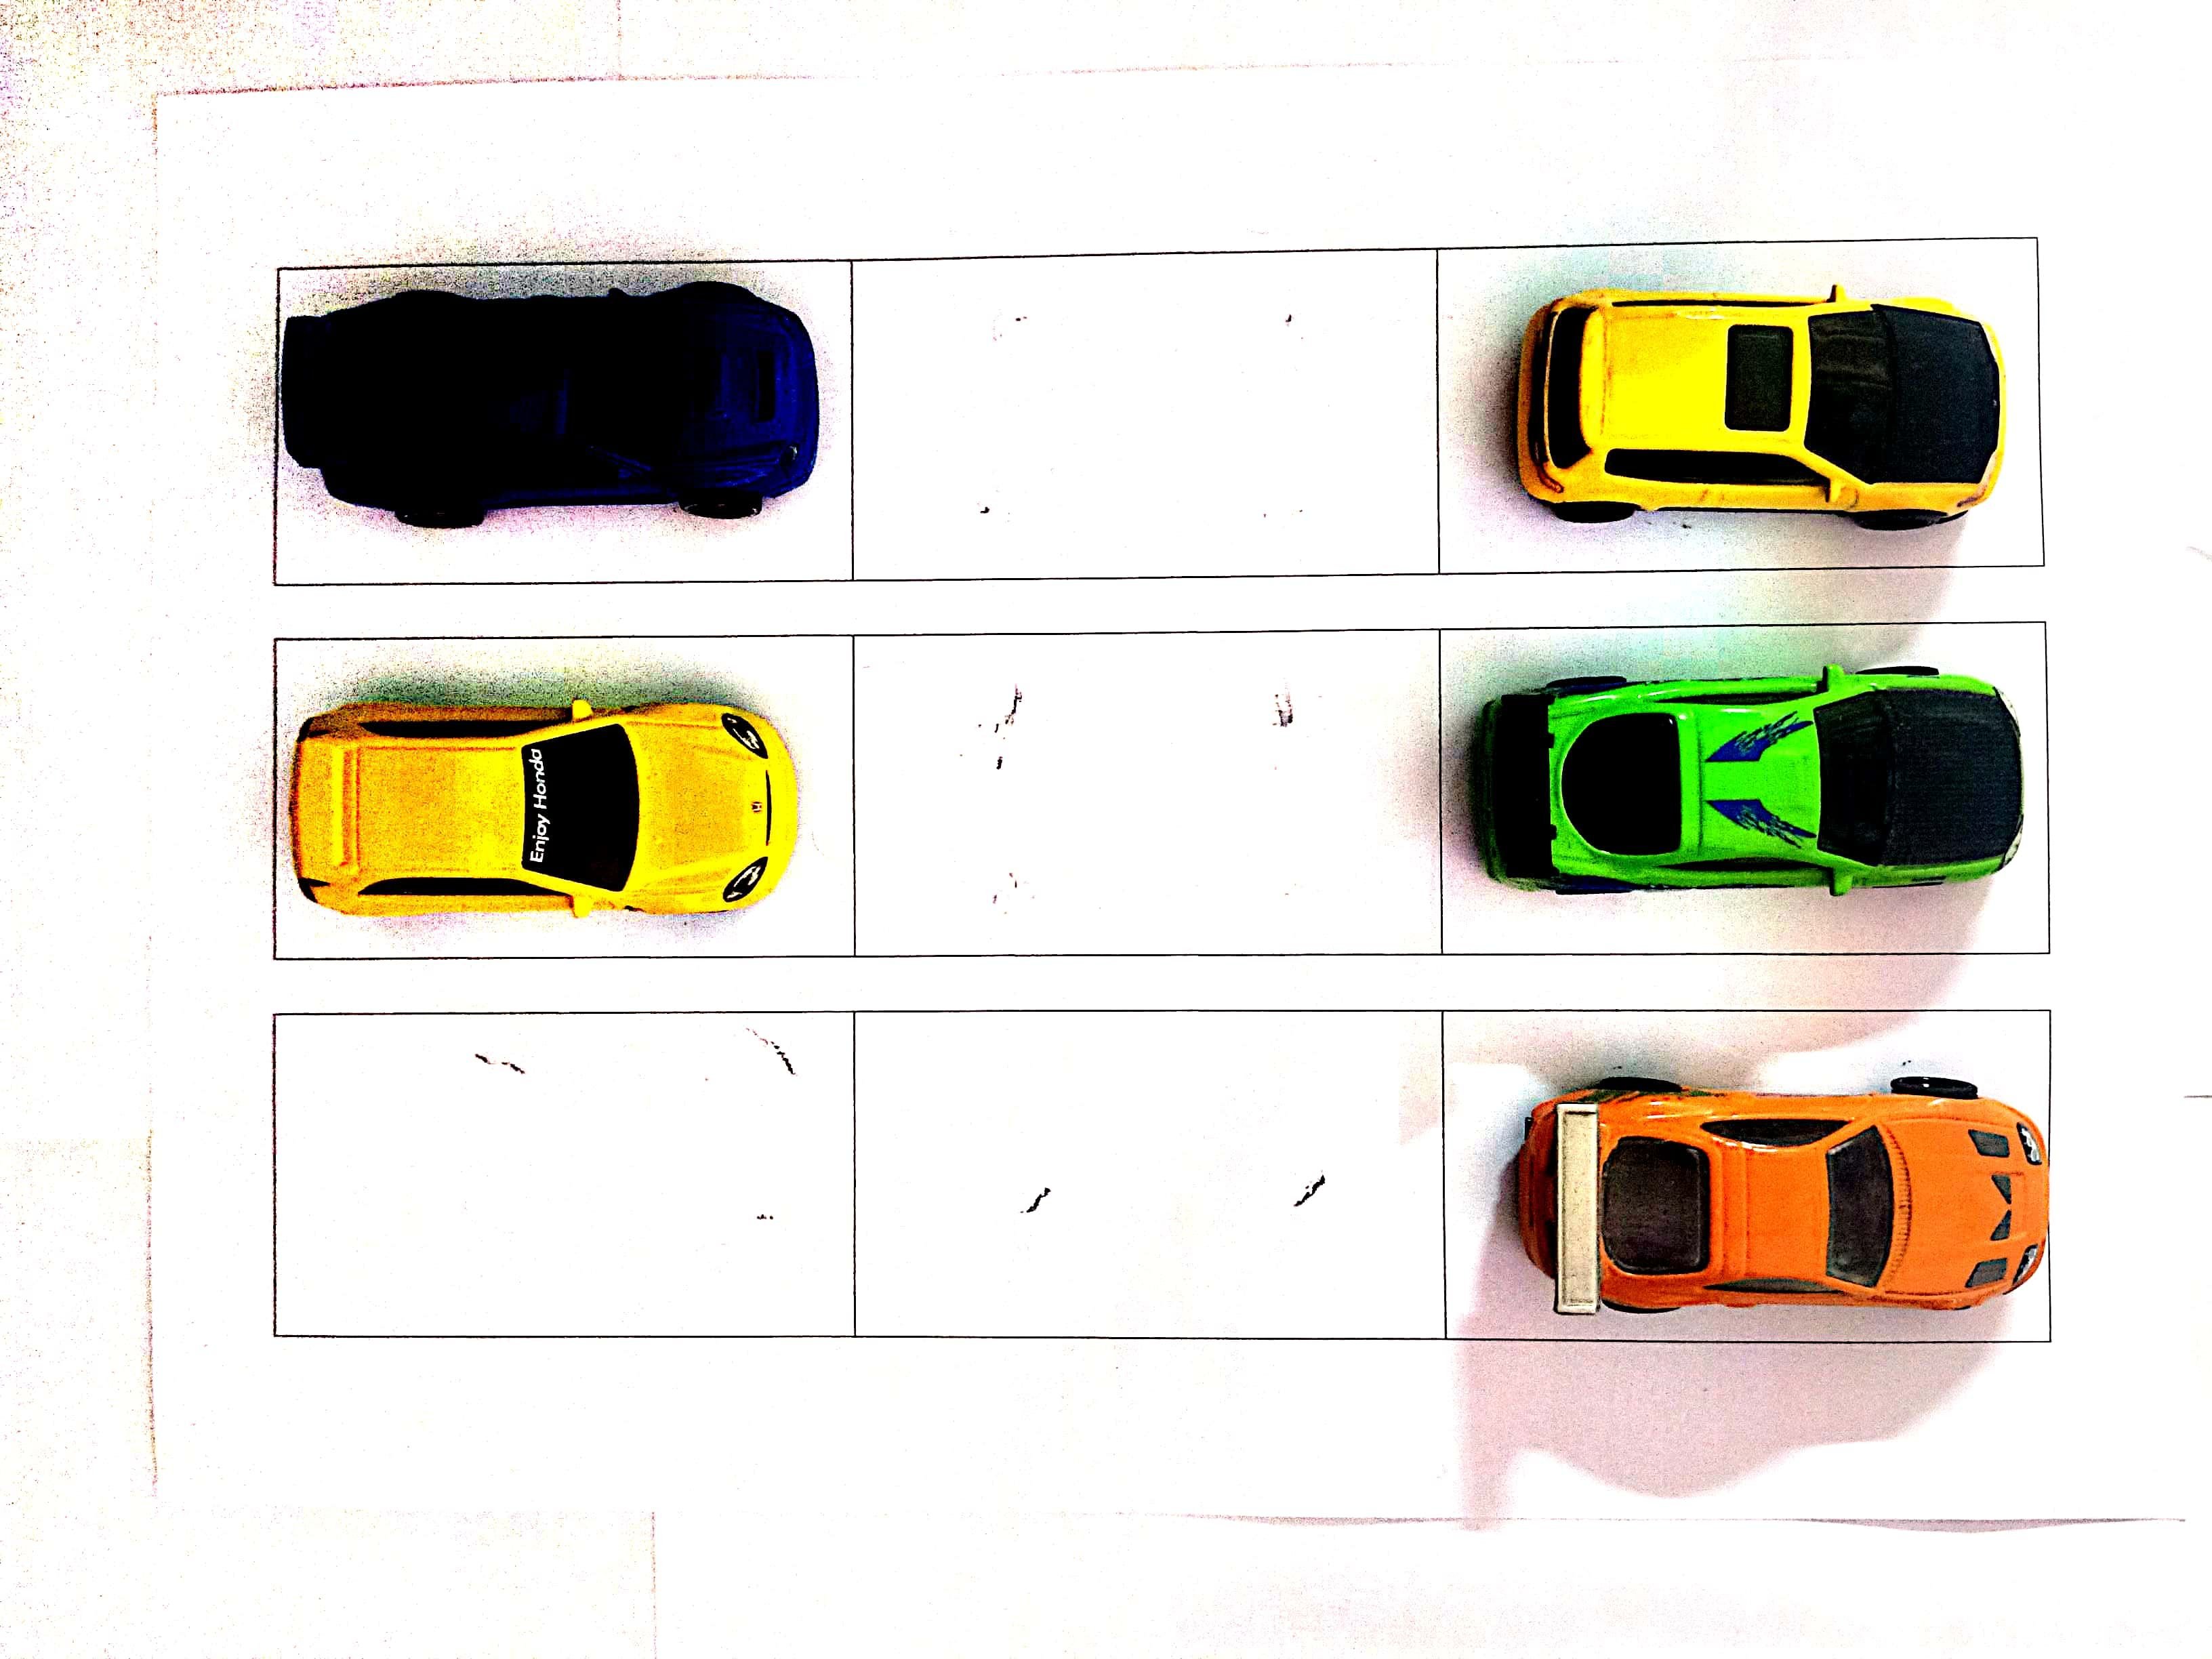Busy: (1440, 622, 2038, 950), (1433, 246, 2038, 568), (1449, 1018, 2047, 1342), (282, 640, 848, 964), (265, 263, 848, 577)
Free: (265, 1011, 860, 1337), (852, 624, 1433, 953), (853, 253, 1440, 575), (862, 1014, 1437, 1331)
